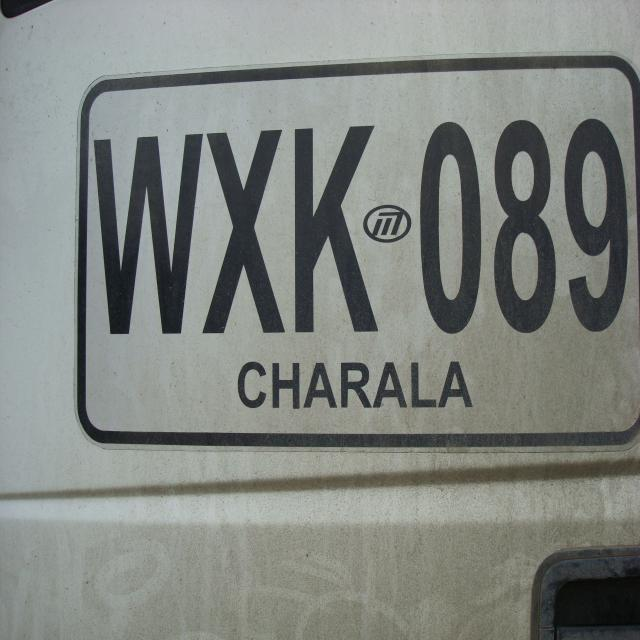placa: (66, 47, 640, 458)
